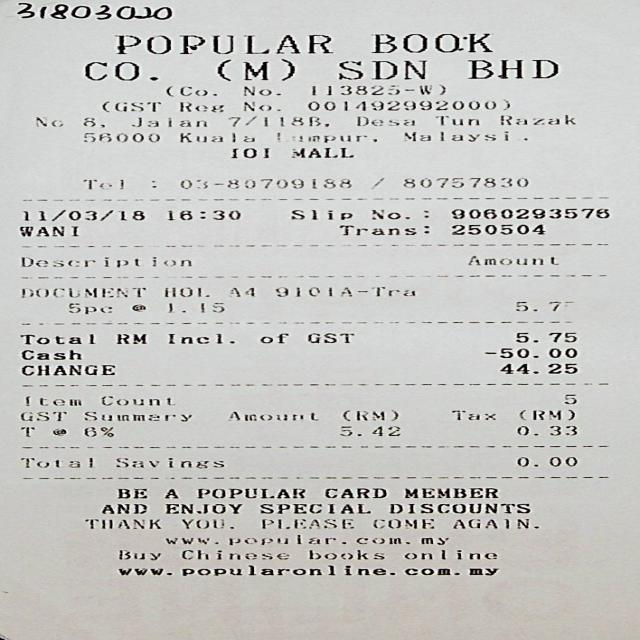text: (113, 34, 330, 52), (180, 564, 495, 575), (371, 32, 490, 52), (307, 100, 507, 110), (228, 534, 446, 543), (19, 256, 189, 266), (335, 60, 424, 79), (215, 58, 291, 80), (465, 60, 556, 78), (179, 178, 349, 187), (22, 208, 143, 220), (451, 208, 608, 217), (387, 503, 528, 513), (311, 84, 444, 94), (84, 61, 156, 79), (275, 286, 413, 295), (19, 287, 143, 296), (194, 487, 304, 497), (403, 178, 525, 187), (258, 503, 367, 513), (115, 458, 222, 468), (404, 131, 507, 141), (226, 116, 327, 126), (81, 411, 189, 420), (182, 549, 288, 558), (449, 224, 542, 234), (404, 487, 496, 497), (484, 347, 574, 357), (468, 255, 557, 265), (276, 132, 374, 141), (230, 410, 316, 420), (20, 365, 112, 374), (260, 518, 352, 527), (336, 225, 427, 234), (404, 549, 495, 558), (496, 363, 574, 373), (162, 503, 238, 513), (451, 518, 535, 527), (19, 333, 92, 343), (19, 458, 92, 468), (167, 209, 239, 219), (497, 114, 573, 123), (82, 132, 158, 141), (83, 519, 159, 528), (306, 549, 382, 558), (179, 133, 252, 142), (291, 209, 350, 220), (99, 396, 168, 405), (336, 425, 398, 435), (324, 487, 385, 497), (129, 118, 205, 126), (518, 408, 573, 419), (167, 333, 233, 342), (290, 147, 352, 156), (23, 395, 78, 405), (342, 410, 397, 420), (513, 332, 574, 341), (168, 302, 222, 312), (371, 518, 431, 527), (20, 349, 79, 358), (100, 102, 158, 111), (355, 116, 412, 125), (19, 226, 76, 235), (165, 85, 215, 95), (372, 209, 426, 218), (179, 518, 231, 527), (68, 302, 110, 313), (513, 301, 558, 311), (307, 332, 352, 342), (100, 503, 145, 513), (164, 286, 208, 296), (17, 412, 64, 421), (117, 549, 159, 559), (435, 115, 476, 125), (450, 410, 494, 419), (240, 85, 278, 95), (83, 178, 121, 188), (117, 567, 170, 574), (180, 102, 221, 111), (242, 101, 278, 111), (230, 147, 268, 156), (164, 537, 217, 543), (115, 333, 144, 343), (115, 488, 144, 498), (258, 332, 286, 342), (549, 425, 576, 435), (84, 427, 111, 436), (547, 456, 574, 465), (34, 116, 60, 125), (516, 425, 538, 435), (81, 117, 102, 127), (230, 287, 252, 295), (368, 178, 382, 189), (514, 456, 527, 465), (20, 427, 32, 436), (163, 488, 175, 497), (564, 394, 574, 403), (129, 304, 142, 310), (52, 428, 64, 434)
